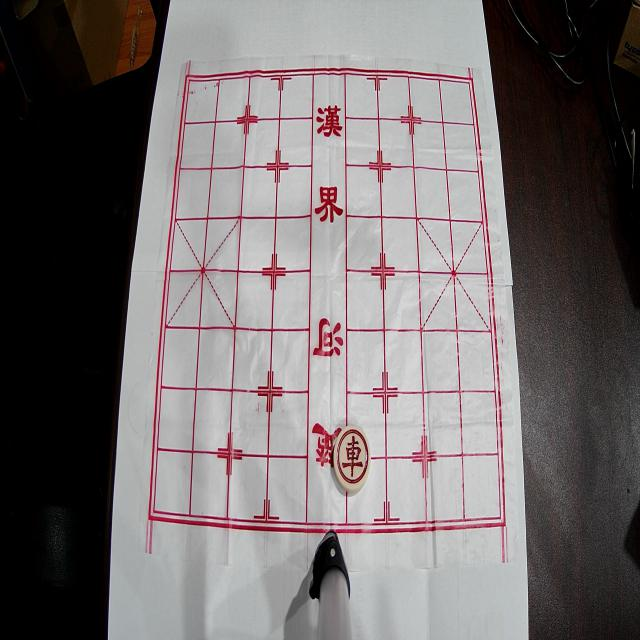red-chariot: (333, 424, 371, 492)
